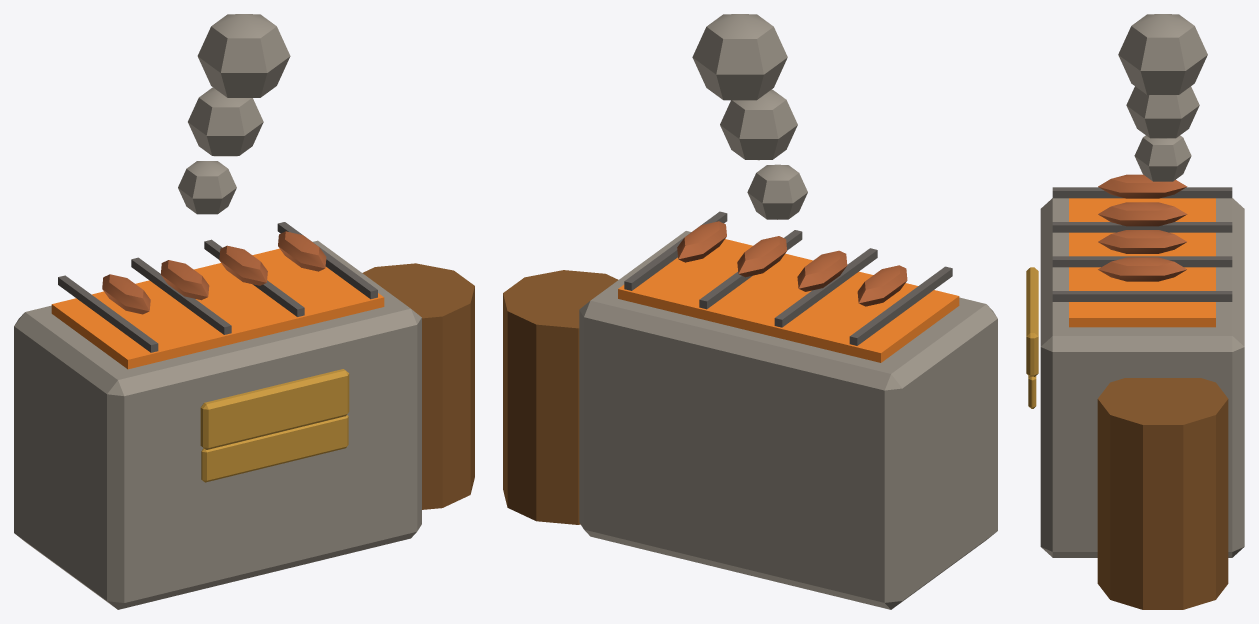
Rendered from PR_Station_Balik_T2.fbx.
3 views of the same model, side by side, from view 1: azimuth 30°, elevation 25°; view 2: azimuth 150°, elevation 25°; view 3: azimuth 270°, elevation 25° (orthographic). The views are drawn at different scales.
Visible parts, largest first — view 1: PR_Station_Balik_T2; view 2: PR_Station_Balik_T2; view 3: PR_Station_Balik_T2.
Part boxes in pixels (x1,y1,x2,y2): PR_Station_Balik_T2: (14, 14, 474, 609); PR_Station_Balik_T2: (503, 14, 997, 609); PR_Station_Balik_T2: (1026, 14, 1244, 609).
Size of the model in its own units: 1.13 by 1.33 by 0.535.
